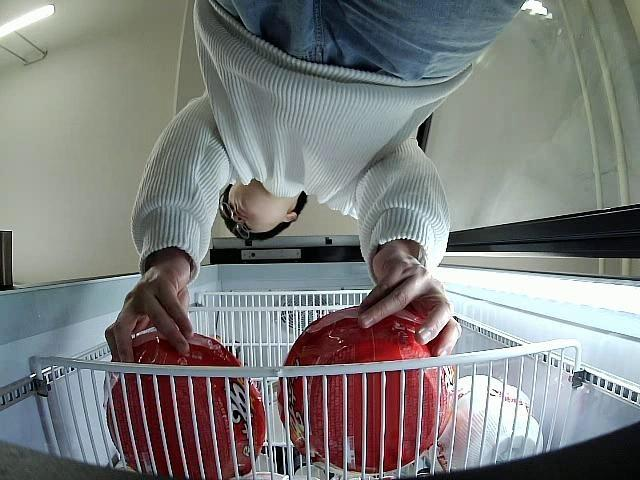10_wangTtukkeong: (283, 305, 452, 472), (106, 332, 267, 480)
